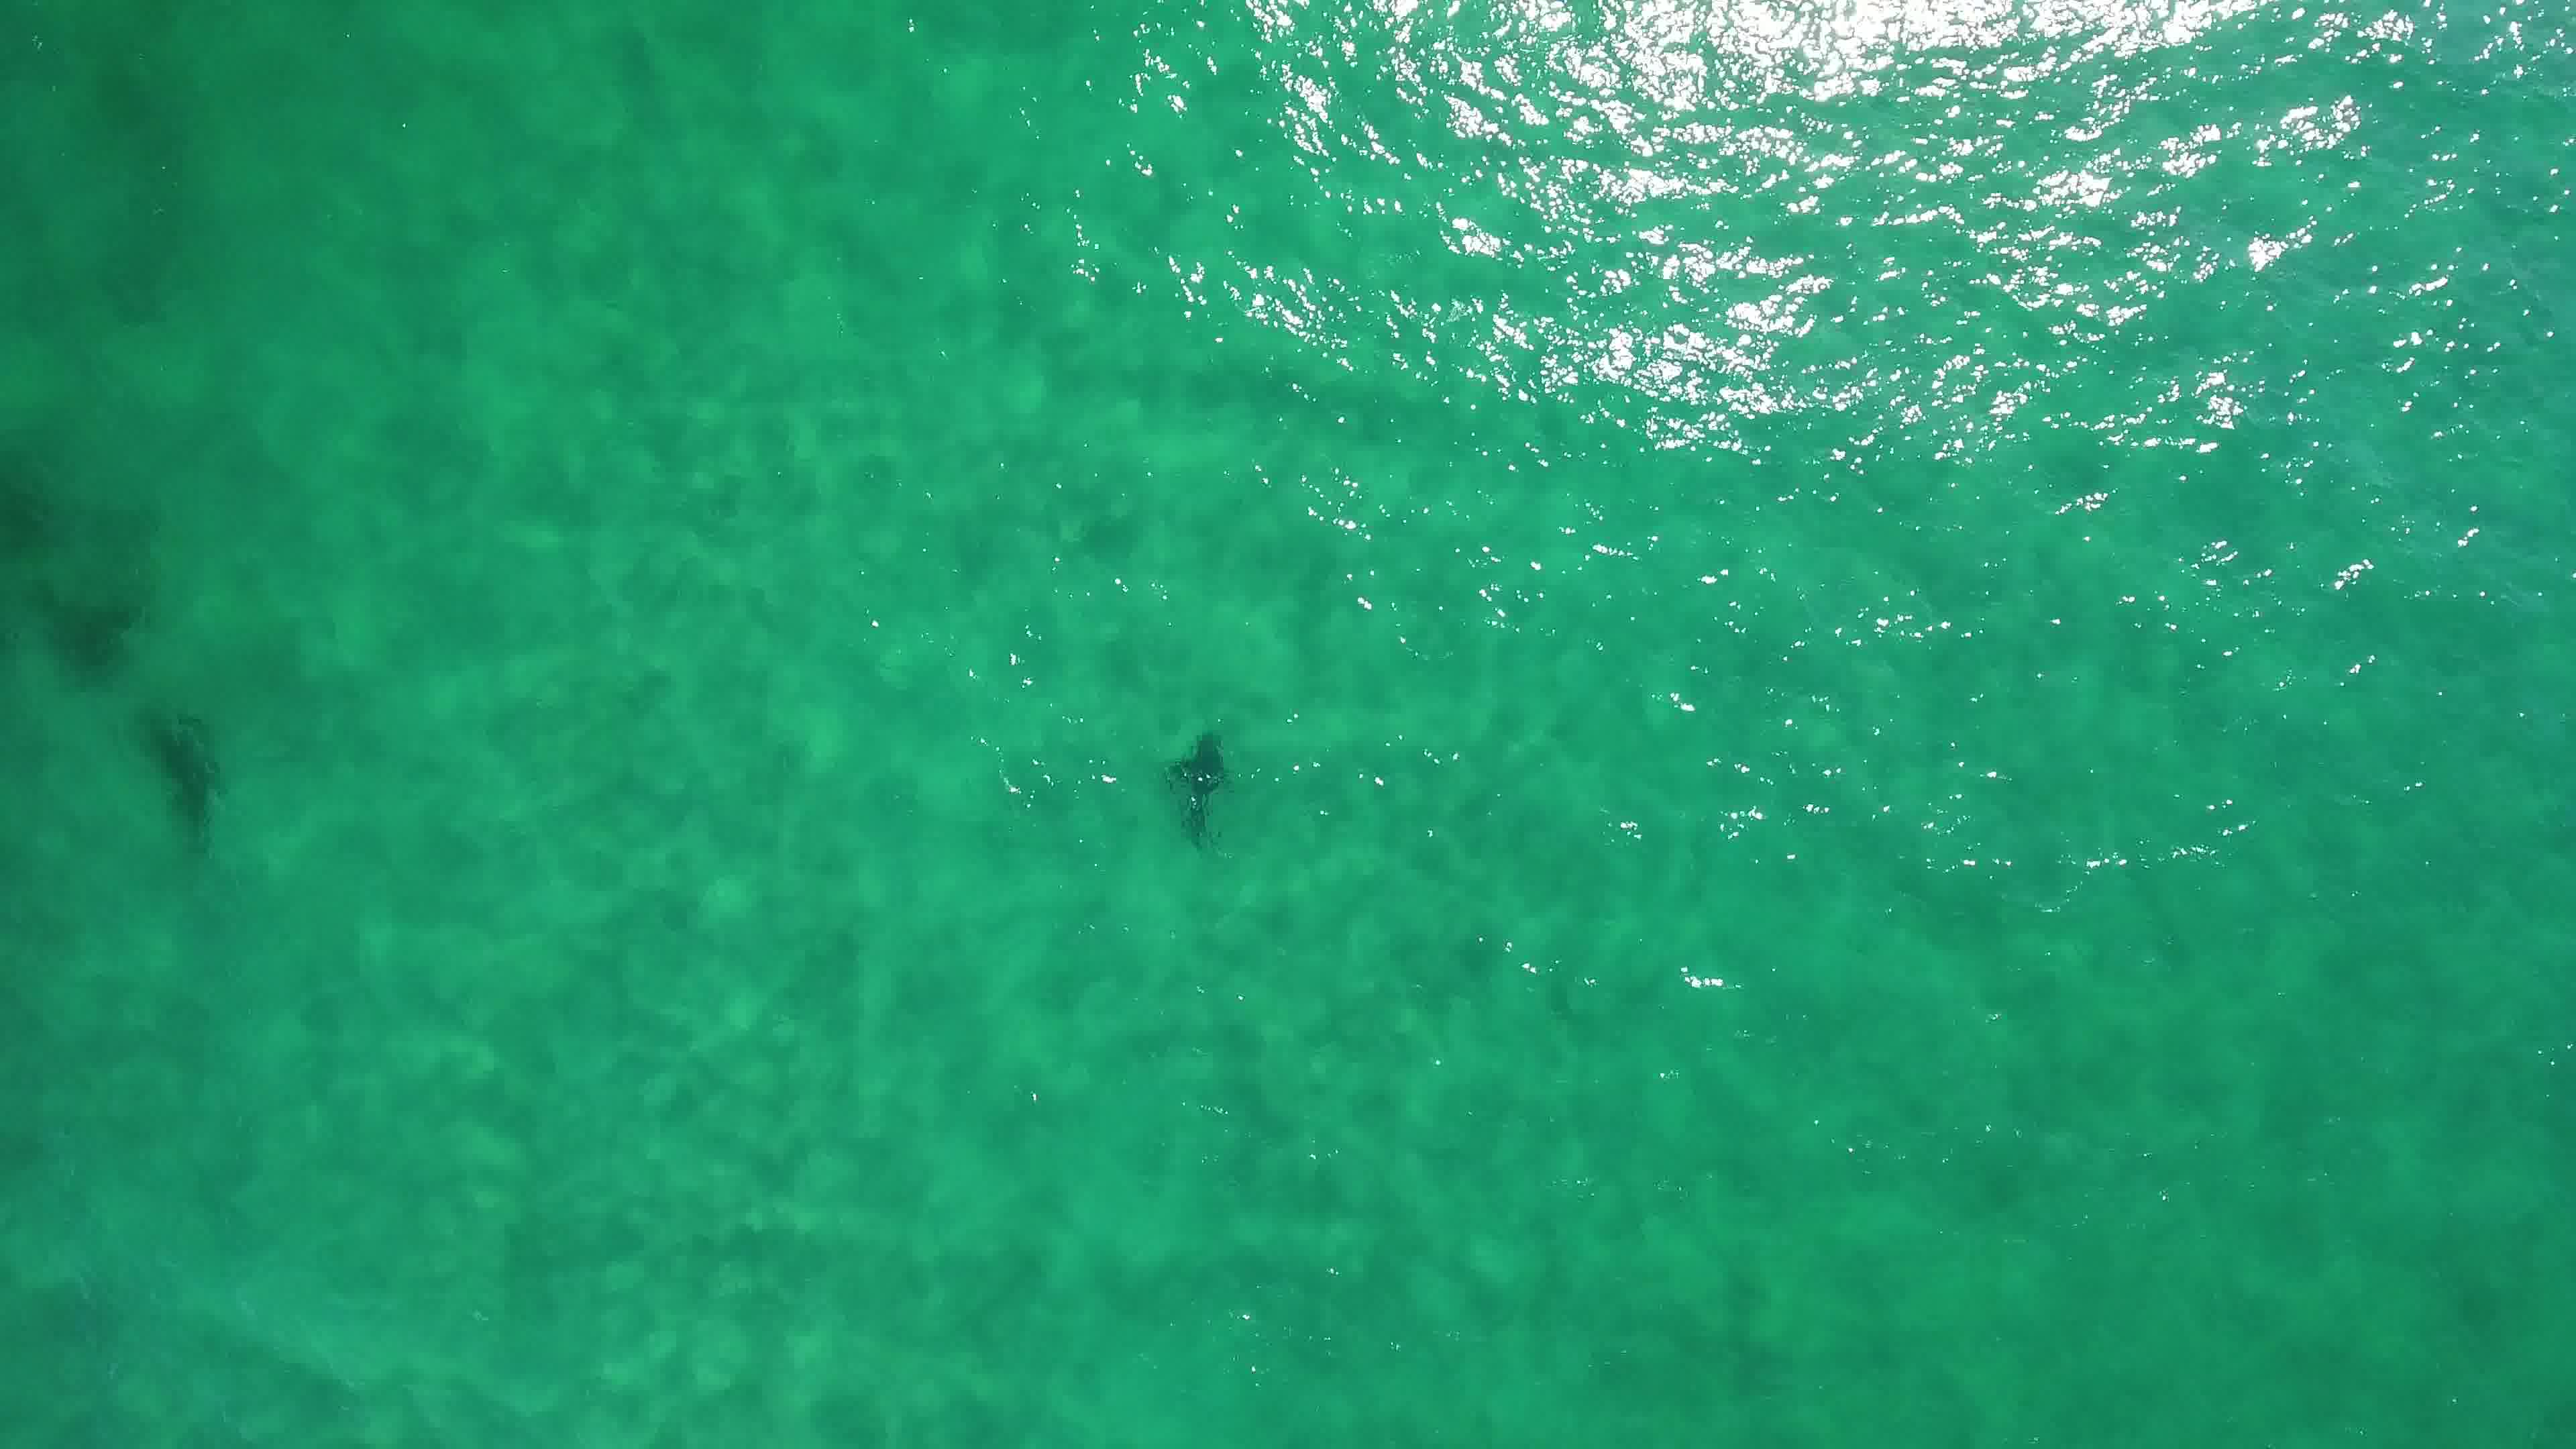shark: (1162, 725, 1238, 849)
